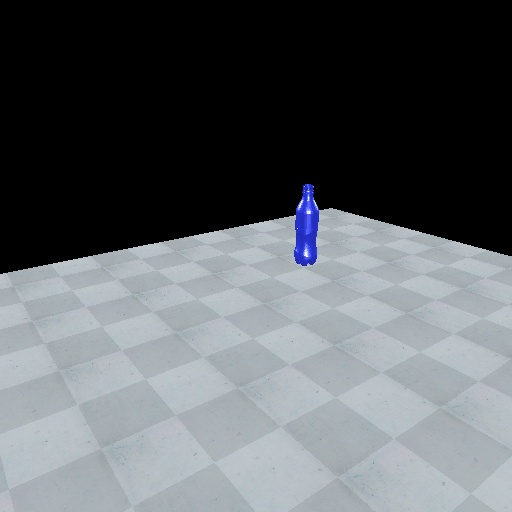bottle: (292, 181, 321, 267)
